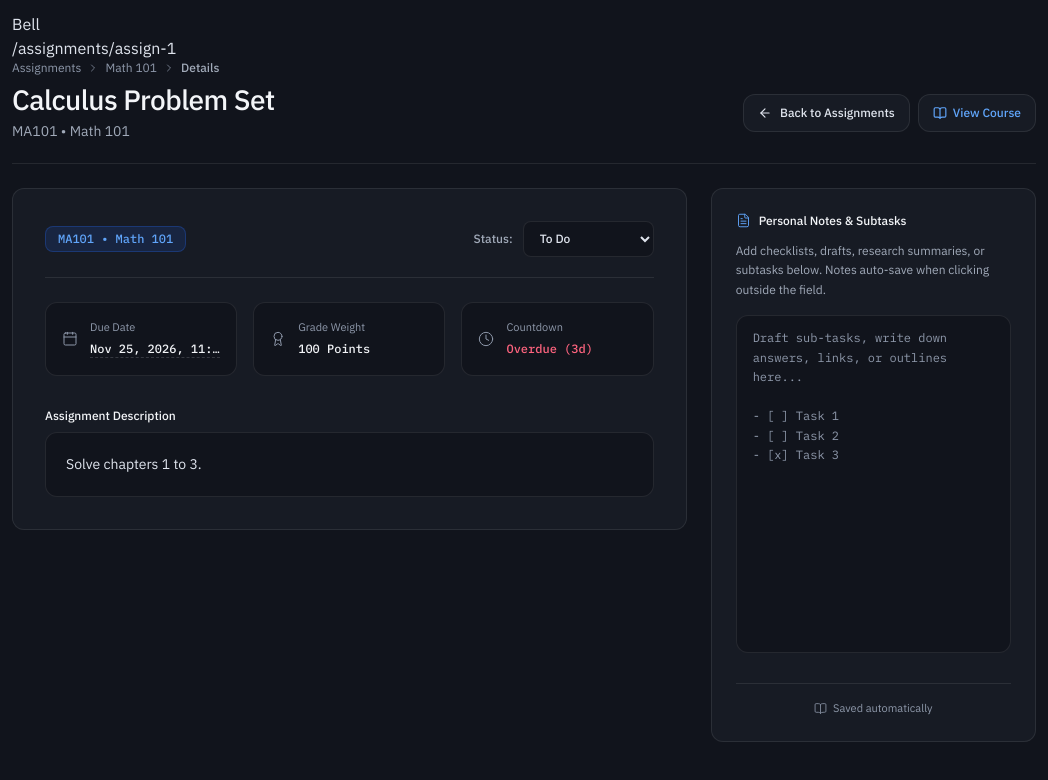
End-to-End Navigation & User Journey Flows › Journey 5 & 6: Direct URL access (/assignments/assign-1) renders detail page and provides fallback Back to /dashboard
Check: the text with test id "current-location" reads "/assignments/assign-1", box [12, 38, 176, 58]
Check: the heading "Calculus Problem Set" is shown, box [12, 84, 275, 116]
Click the button with test id "assignment-back-button". click: [826, 114]
box: [743, 94, 910, 132]
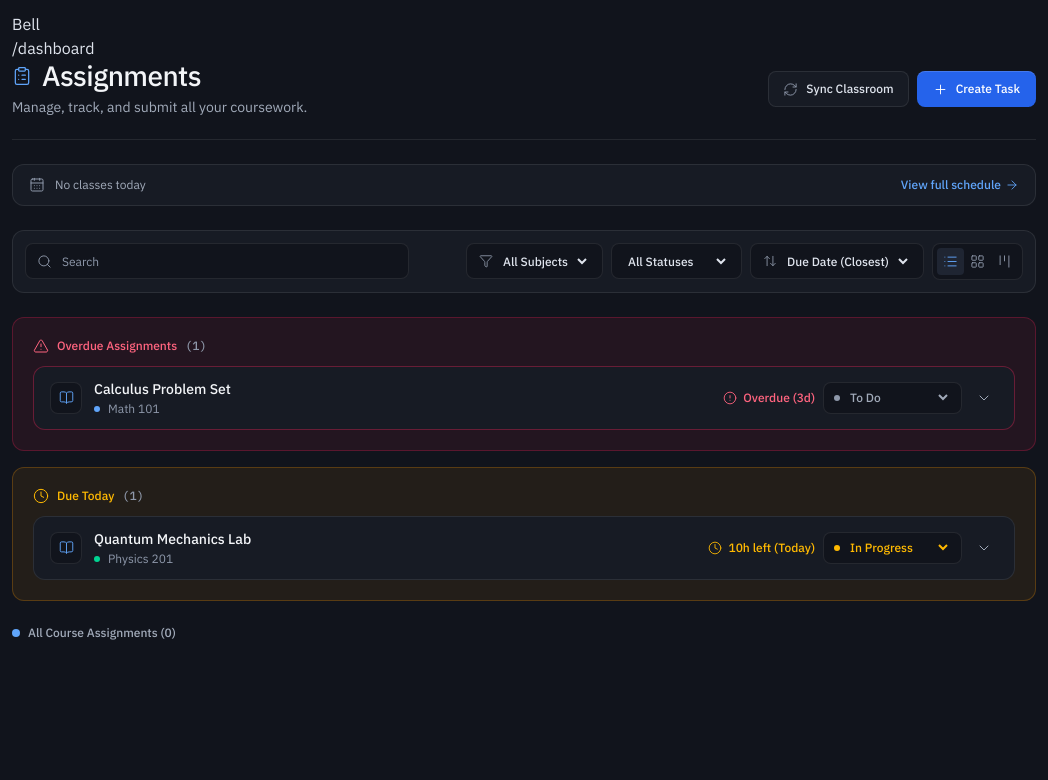
Check: the text with test id "current-location" reads "/dashboard", box [12, 38, 94, 58]
